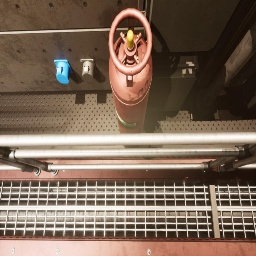NitrogenTank ,: (108, 8, 152, 148)
